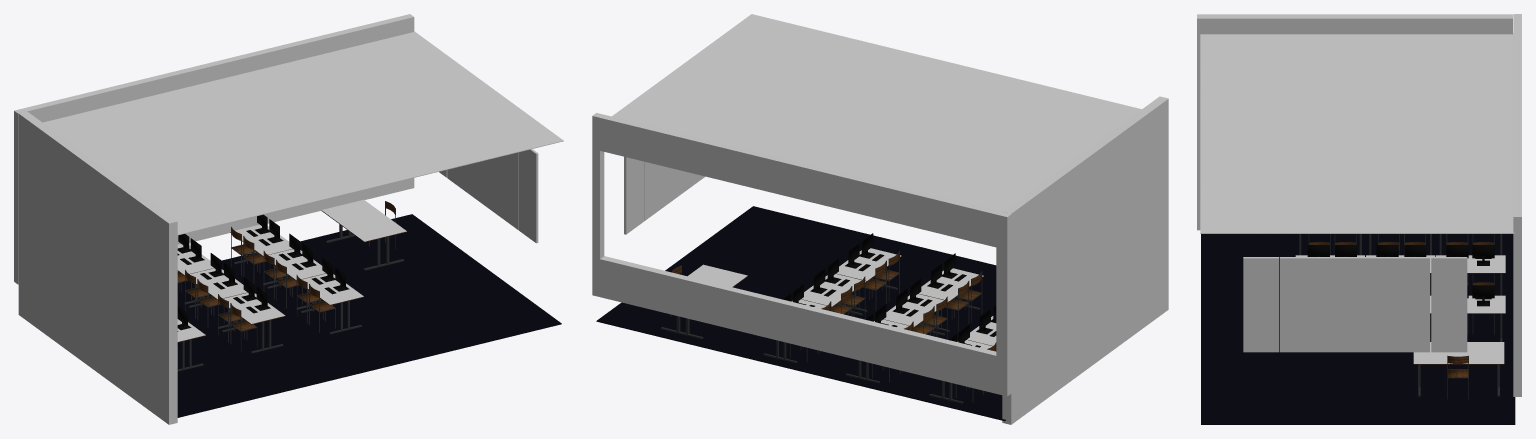
File: salle_classe_haut09.obj
The picture shows the model from 3 angles, left to right: view 1: azimuth 30°, elevation 25°; view 2: azimuth 150°, elevation 25°; view 3: azimuth 270°, elevation 25°; orthographic projection. The views are drawn at different scales.
Parts seen in each view (by area): view 1: plafond_classe.023; view 2: plafond_classe.023; view 3: plafond_classe.023.
Part boxes in pixels (x1,y1,x2,y2): plafond_classe.023: (14, 14, 563, 424); plafond_classe.023: (592, 14, 1168, 424); plafond_classe.023: (1197, 14, 1521, 424).
Bounding box in the file's own units: 23.23 × 11.26 × 15.66.
6 materials, 3 textured.
